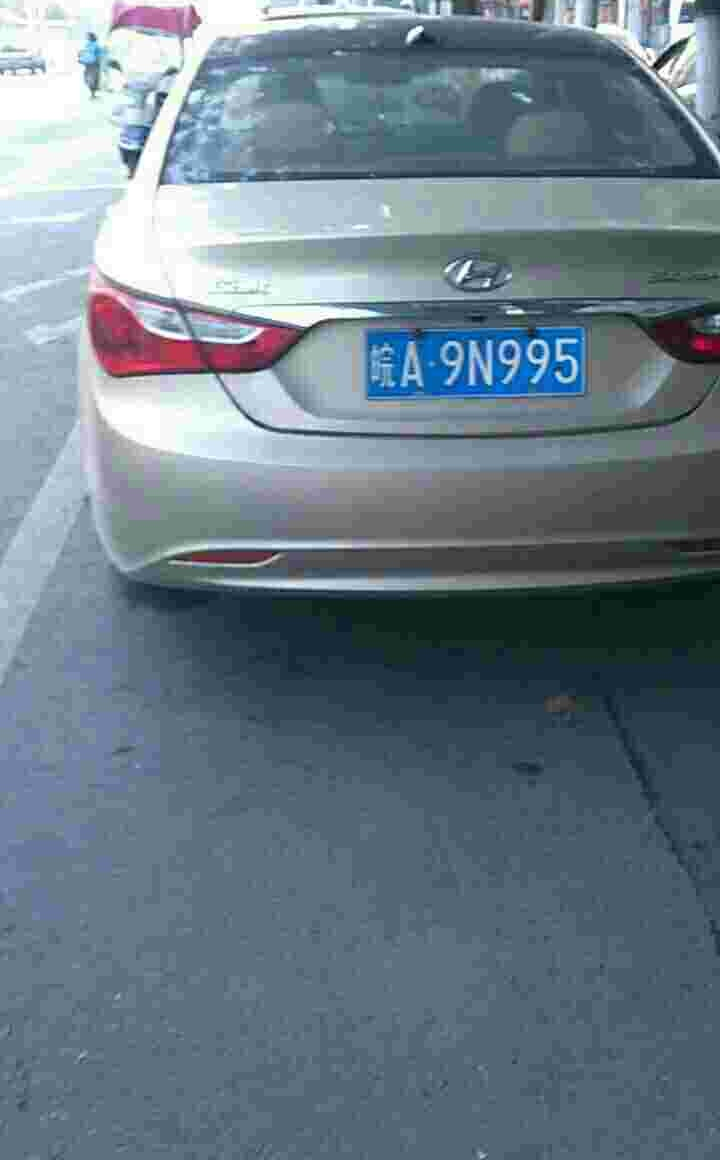license_plate: (370, 332, 583, 398)
